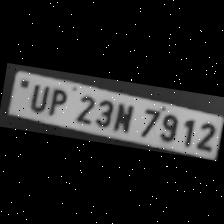1: (176, 114, 198, 148)
2: (192, 118, 220, 152), (68, 92, 96, 125)
3: (90, 94, 116, 128)
7: (134, 104, 160, 140)
9: (154, 110, 181, 144)
N: (110, 100, 137, 134)
P: (42, 85, 70, 119)
U: (23, 80, 50, 114)
